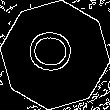O_E: (27, 30, 83, 80)
